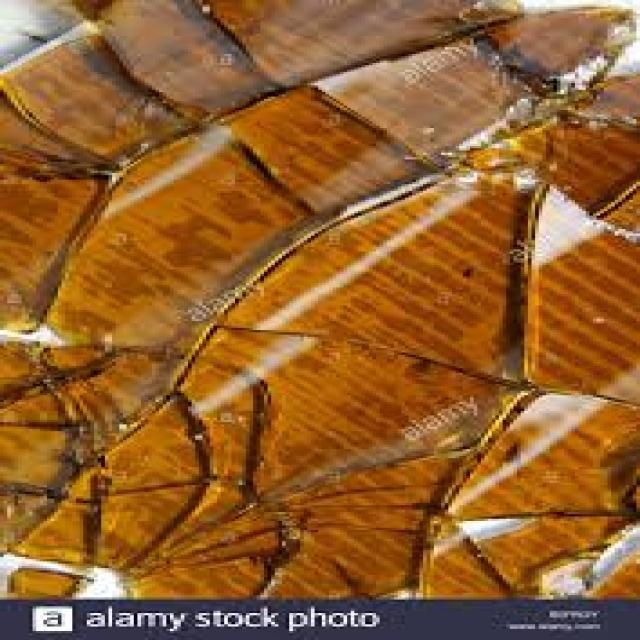Glass-Bottle: (2, 2, 640, 600), (0, 2, 640, 598)
